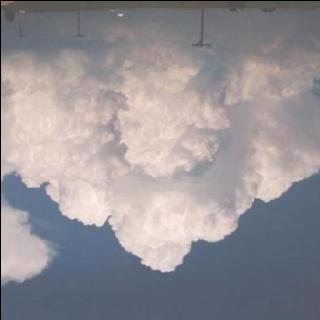Cumulonimbus: (0, 28, 320, 282)
